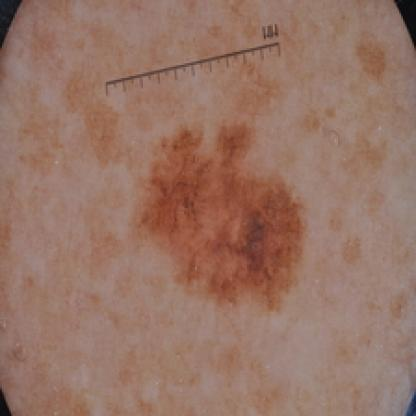Skin_Cancer-Malignant: (135, 119, 304, 315)
